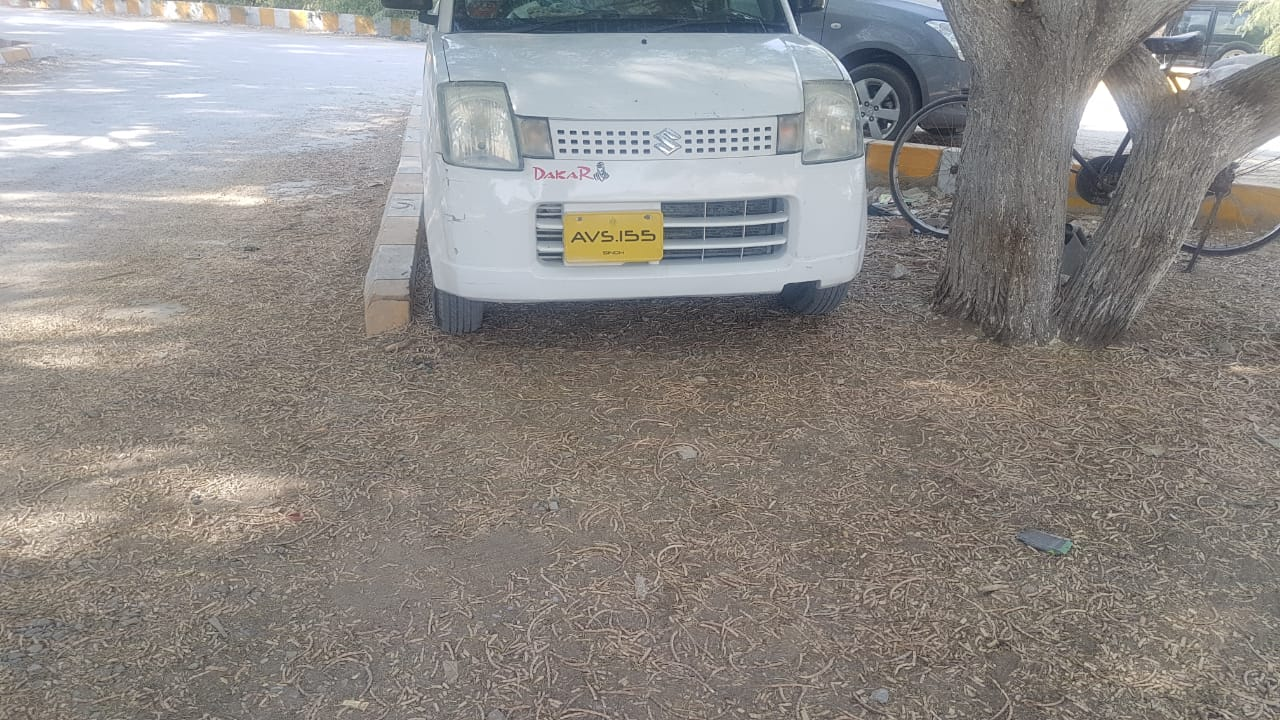license plate: (563, 212, 663, 262)
